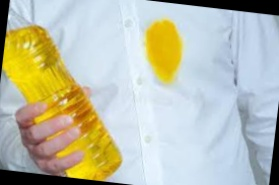mustard: (136, 15, 186, 88)
